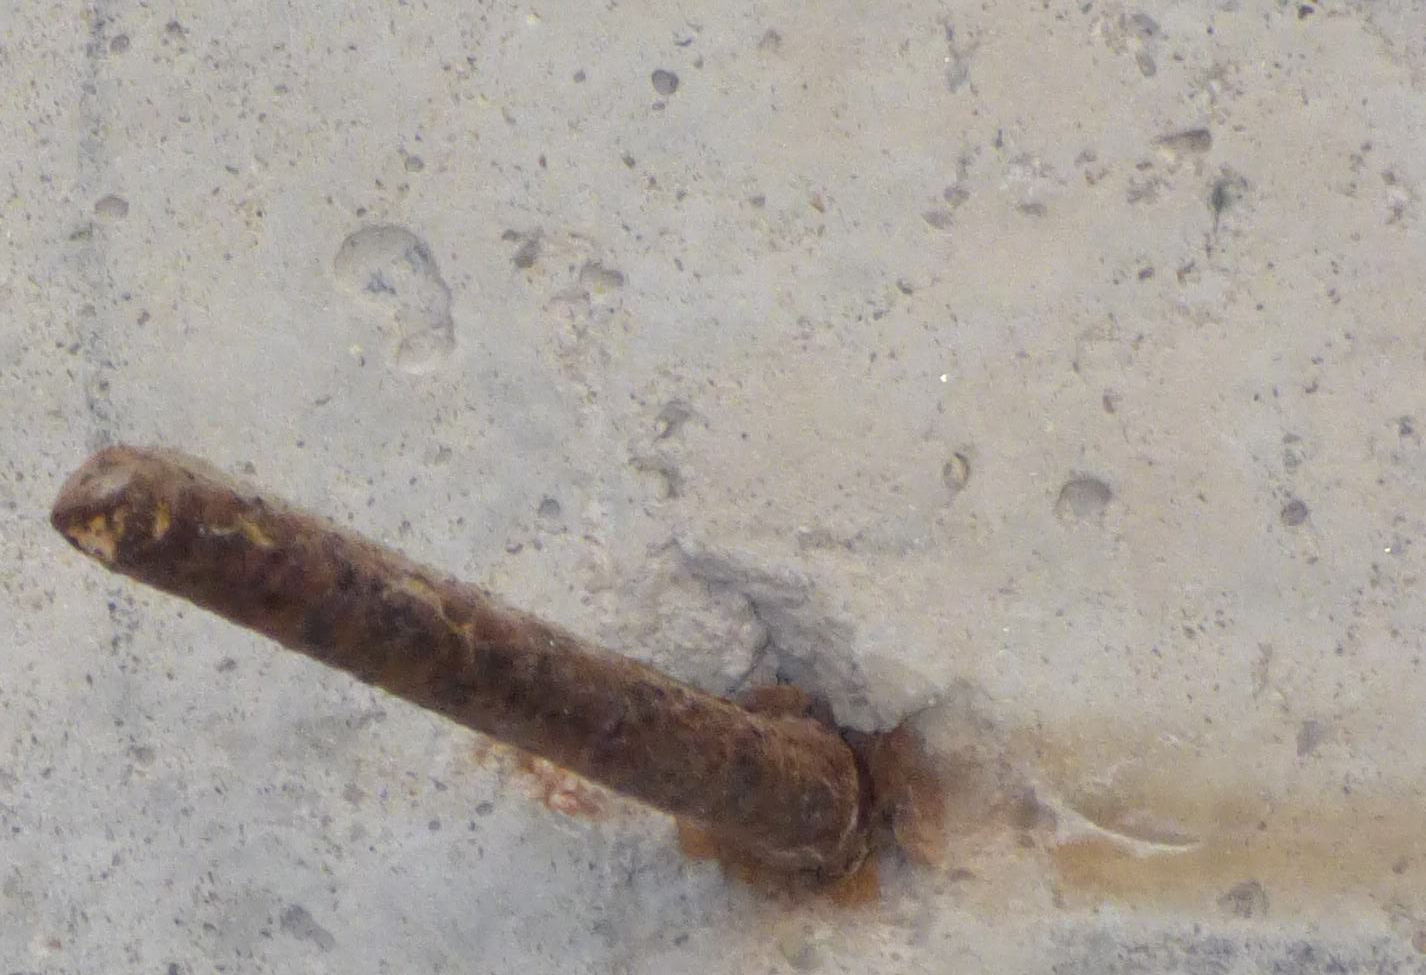Exposed reinforcement: (49, 444, 863, 873)
